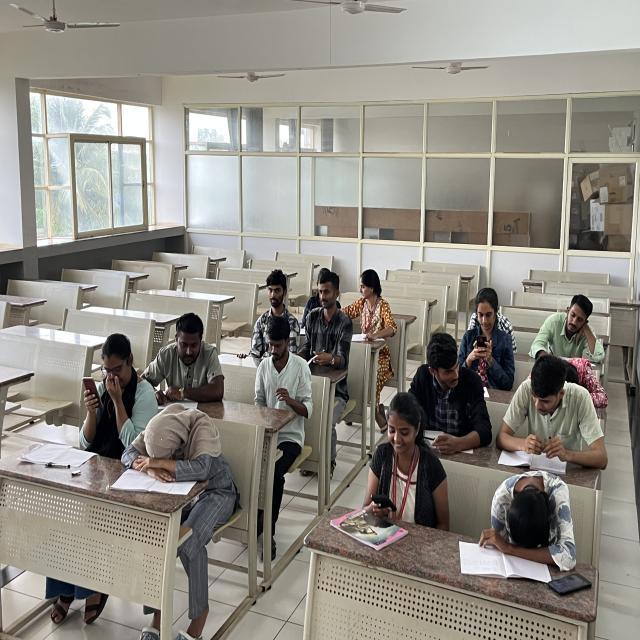Reading: (496, 356, 604, 470), (145, 308, 224, 408)
Sleeping: (476, 464, 585, 566), (119, 399, 228, 489)
Using Phone: (358, 393, 446, 519), (80, 331, 148, 444), (456, 283, 514, 372)
Writing: (530, 290, 605, 370)
